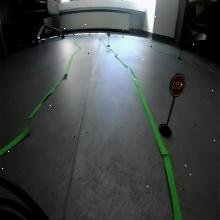stop: (169, 73, 185, 97)
